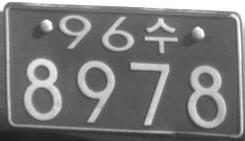6: (100, 16, 135, 51)
7: (130, 60, 170, 125)
8: (22, 57, 62, 122), (186, 64, 226, 129)
9: (75, 59, 116, 123), (58, 14, 91, 49)
수: (144, 18, 177, 53)
